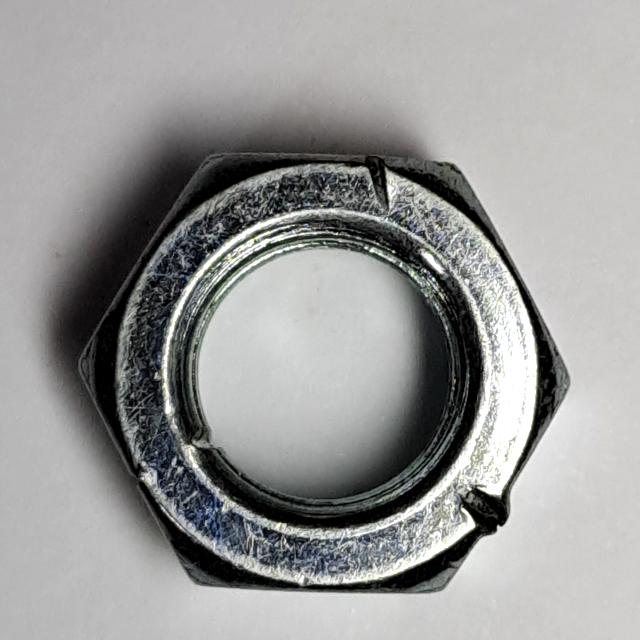Scratches: (60, 139, 585, 611)
